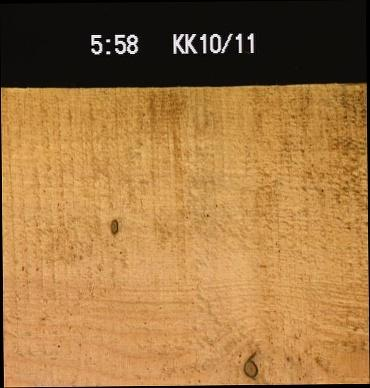dry_knot: (107, 216, 118, 235)
